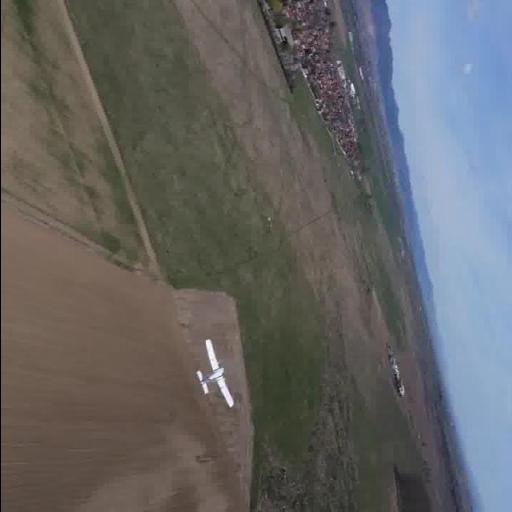uav: (185, 338, 239, 412)
